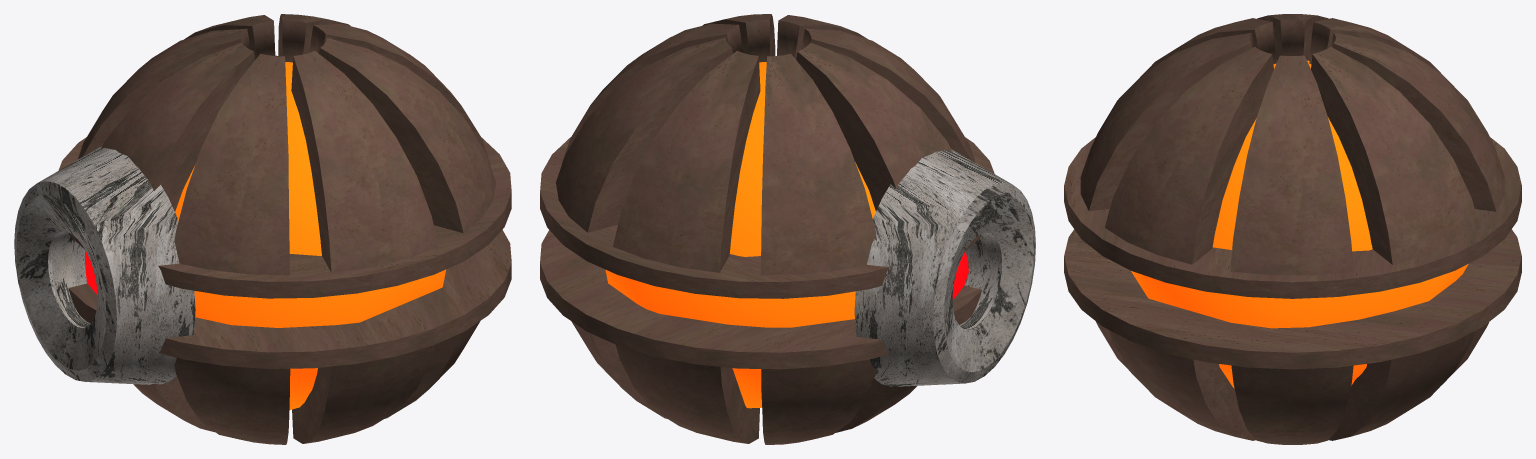
The model's file is eyeOrb-transformed.glb.
3 views of the same model, side by side, from view 1: azimuth 30°, elevation 25°; view 2: azimuth 150°, elevation 25°; view 3: azimuth 270°, elevation 25° (orthographic).
Visible parts, largest first — view 1: Cylinder, Sphere; view 2: Cylinder, Sphere; view 3: Cylinder, Sphere.
Part boxes in pixels (left/top/right/bottom): Cylinder: left=58, top=14, right=511, bottom=444; Sphere: left=14, top=62, right=446, bottom=409; Cylinder: left=540, top=14, right=994, bottom=444; Sphere: left=605, top=62, right=1035, bottom=408; Cylinder: left=1064, top=14, right=1521, bottom=444; Sphere: left=1131, top=60, right=1468, bottom=388.
Bounding box in the file's own units: 2.47 × 2.15 × 2.33.
4 materials, 2 textured.
